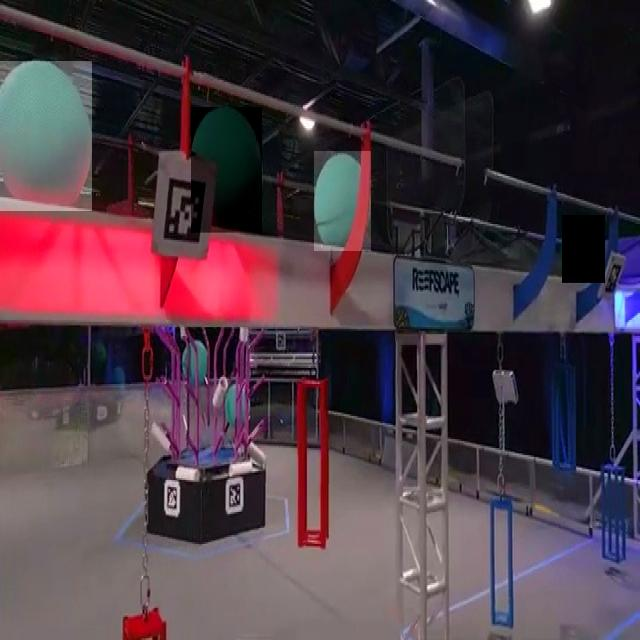Algae: (0, 61, 92, 211), (191, 108, 262, 234), (314, 151, 371, 251), (562, 216, 605, 284)
